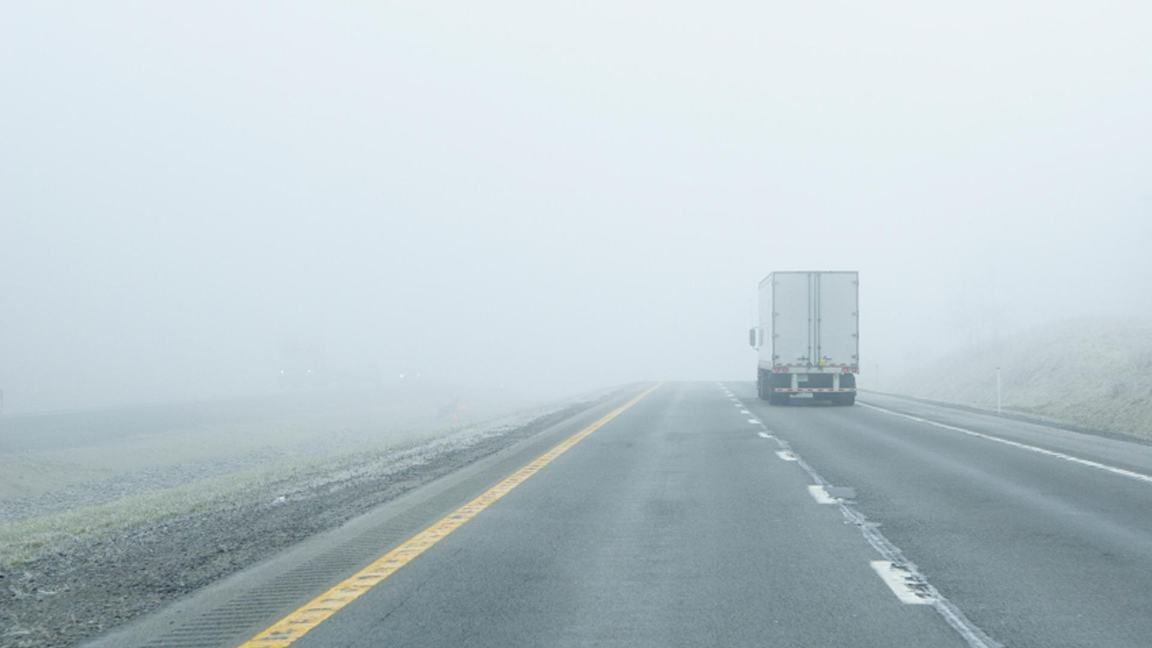bus: (748, 270, 860, 406)
